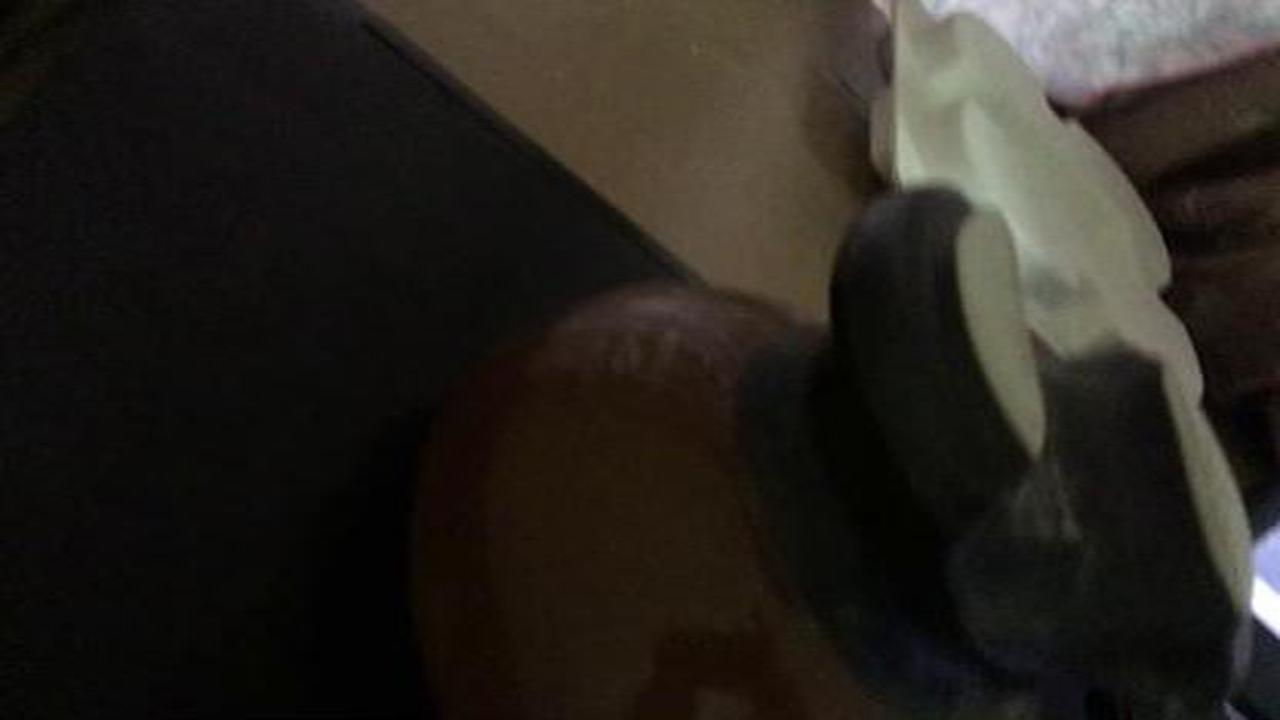insulator_pin: (394, 174, 1271, 712)
